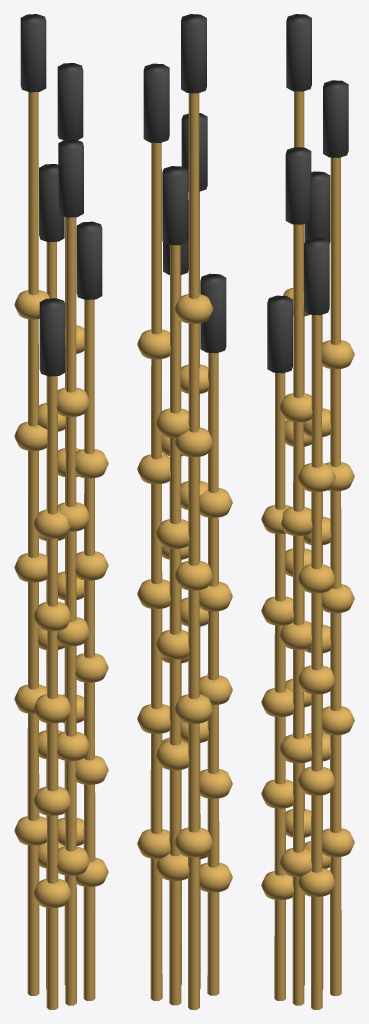
The model's file is velas-colmeia-conjunto-de-6.glb.
3 renders of one model, left to right at view 1: azimuth 30°, elevation 25°; view 2: azimuth 150°, elevation 25°; view 3: azimuth 330°, elevation 25°, orthographic. The views are drawn at different scales.
Visible parts, largest first — view 1: Vela hexagonal de cera.003, Vela hexagonal de cera.001, Vela hexagonal de cera.002, Vela hexagonal de cera, Pavio de algodao, Pavio de algodao.002, Pavio de algodao.003, Pavio de algodao.005, Pavio de algodao.001, Pavio de algodao.004, Vela hexagonal de cera.004, Relevo de favo de mel.003 (+24 smaller); view 2: Vela hexagonal de cera.003, Vela hexagonal de cera.005, Vela hexagonal de cera.004, Vela hexagonal de cera, Pavio de algodao.004, Pavio de algodao.005, Pavio de algodao.003, Pavio de algodao, Pavio de algodao.001, Relevo de favo de mel.017, Relevo de favo de mel.019, Relevo de favo de mel.015 (+24 smaller); view 3: Vela hexagonal de cera.005, Vela hexagonal de cera.001, Vela hexagonal de cera.002, Vela hexagonal de cera, Pavio de algodao.001, Pavio de algodao.005, Pavio de algodao.002, Pavio de algodao.003, Pavio de algodao, Pavio de algodao.004, Vela hexagonal de cera.003, Relevo de favo de mel.014 (+27 smaller).
Boxes of the visible parts, x1=… form: Vela hexagonal de cera.003: x1=27, y1=92, x2=39, y2=995; Vela hexagonal de cera.001: x1=65, y1=217, x2=76, y2=1005; Vela hexagonal de cera.002: x1=83, y1=299, x2=95, y2=1000; Vela hexagonal de cera: x1=46, y1=376, x2=58, y2=1009; Pavio de algodao: x1=39, y1=298, x2=65, y2=376; Pavio de algodao.002: x1=76, y1=221, x2=102, y2=299; Pavio de algodao.003: x1=20, y1=14, x2=46, y2=92; Pavio de algodao.005: x1=57, y1=63, x2=83, y2=140; Pavio de algodao.001: x1=58, y1=139, x2=83, y2=217; Pavio de algodao.004: x1=39, y1=164, x2=64, y2=242; Vela hexagonal de cera.004: x1=46, y1=241, x2=56, y2=989; Relevo de favo de mel.003: x1=33, y1=602, x2=71, y2=631; Vela hexagonal de cera.003: x1=188, y1=93, x2=199, y2=1009; Vela hexagonal de cera.005: x1=150, y1=142, x2=162, y2=1000; Vela hexagonal de cera.004: x1=169, y1=245, x2=181, y2=1005; Vela hexagonal de cera: x1=207, y1=352, x2=219, y2=995; Pavio de algodao.004: x1=162, y1=166, x2=188, y2=245; Pavio de algodao.005: x1=143, y1=63, x2=169, y2=142; Pavio de algodao.003: x1=181, y1=14, x2=206, y2=93; Pavio de algodao: x1=200, y1=273, x2=226, y2=353; Pavio de algodao.001: x1=181, y1=113, x2=207, y2=191; Relevo de favo de mel.017: x1=174, y1=561, x2=213, y2=590; Relevo de favo de mel.019: x1=174, y1=294, x2=213, y2=323; Relevo de favo de mel.015: x1=174, y1=827, x2=213, y2=857; Vela hexagonal de cera.005: x1=330, y1=157, x2=341, y2=995; Vela hexagonal de cera.001: x1=292, y1=224, x2=304, y2=1005; Vela hexagonal de cera.002: x1=311, y1=315, x2=322, y2=1009; Vela hexagonal de cera: x1=274, y1=373, x2=285, y2=1000; Pavio de algodao.001: x1=285, y1=147, x2=311, y2=224; Pavio de algodao.005: x1=323, y1=80, x2=348, y2=157; Pavio de algodao.002: x1=304, y1=237, x2=329, y2=315; Pavio de algodao.003: x1=286, y1=14, x2=311, y2=91; Pavio de algodao: x1=267, y1=295, x2=292, y2=373; Pavio de algodao.004: x1=304, y1=171, x2=330, y2=243; Vela hexagonal de cera.003: x1=294, y1=91, x2=304, y2=985; Relevo de favo de mel.014: x1=298, y1=463, x2=335, y2=492.
Size of the model in its own units: 0.0152 by 0.202 by 0.0144.
